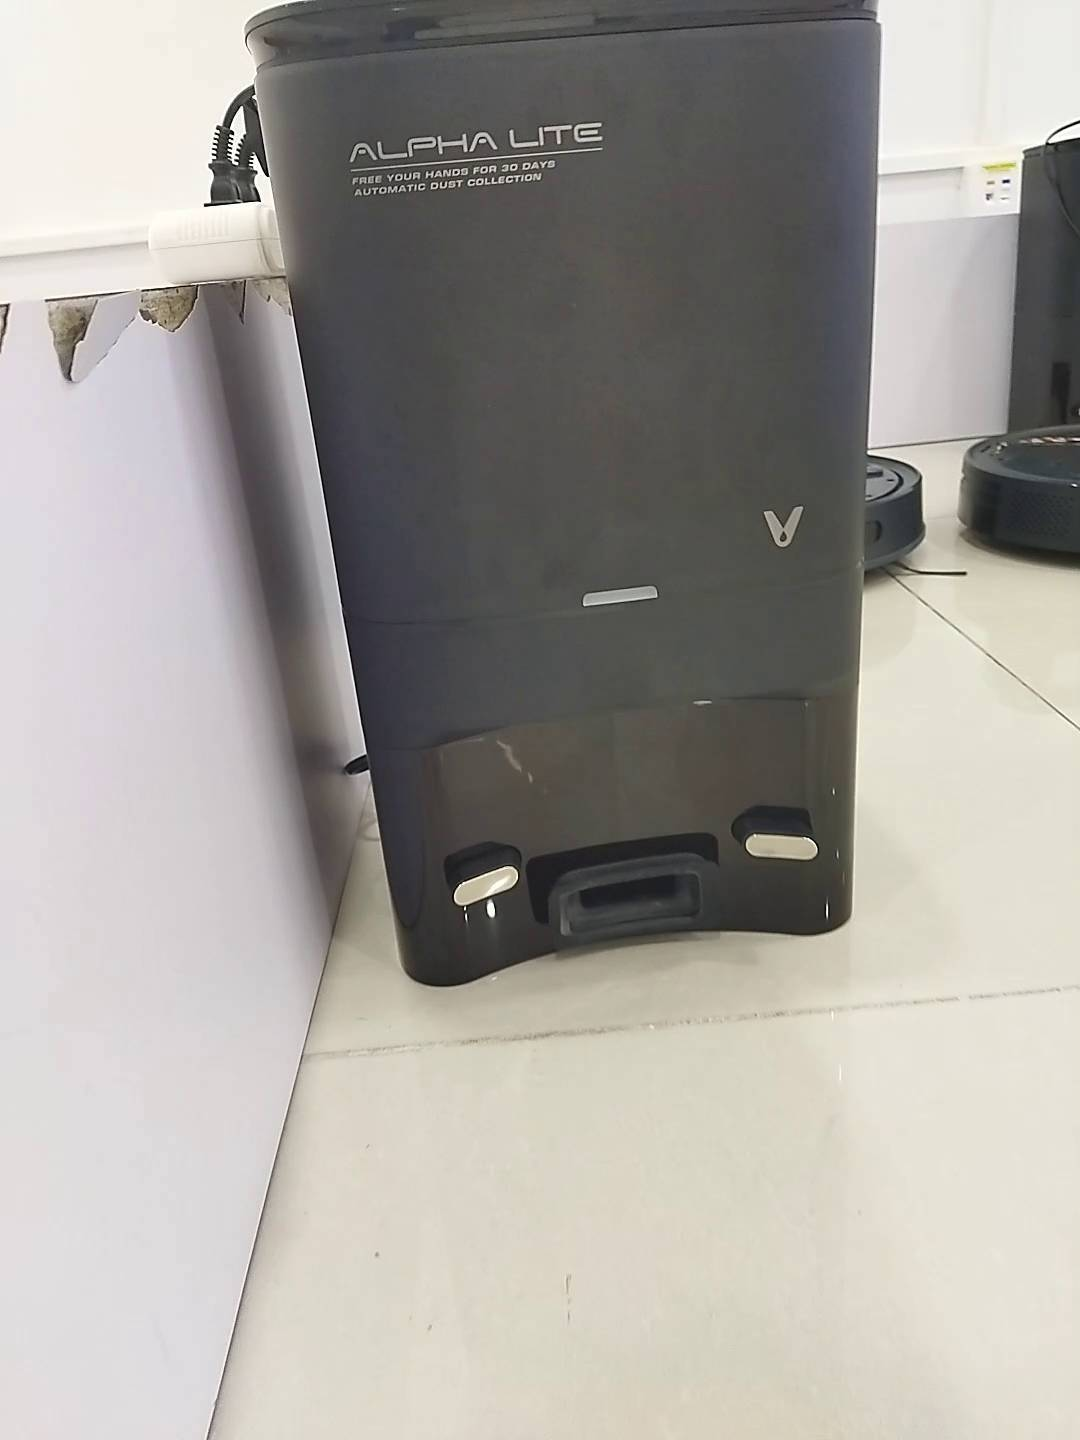dust collecting barrel: (243, 1, 881, 985)
